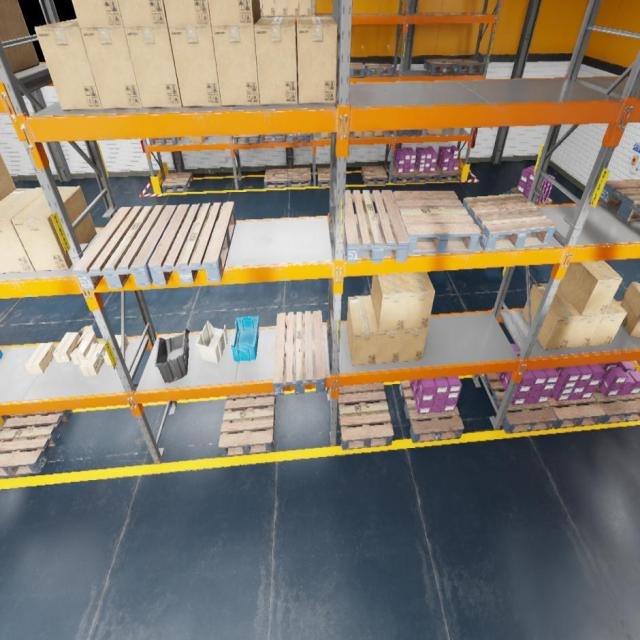box: (12, 186, 96, 271), (34, 19, 104, 110), (80, 27, 143, 109), (124, 27, 182, 108), (168, 26, 221, 107), (254, 16, 298, 105), (522, 283, 580, 350), (212, 26, 259, 106), (0, 188, 43, 272), (558, 261, 622, 316), (297, 17, 337, 104), (0, 0, 39, 73), (558, 287, 604, 348), (371, 273, 409, 332), (346, 295, 378, 365), (372, 298, 404, 363), (402, 272, 435, 330), (588, 298, 627, 346), (71, 0, 124, 28), (208, 0, 260, 26), (118, 0, 168, 27), (163, 0, 211, 27), (620, 282, 640, 338), (70, 326, 98, 364), (25, 342, 56, 374), (399, 328, 428, 362), (80, 343, 106, 376), (53, 332, 80, 362), (0, 152, 16, 200), (104, 335, 128, 365), (262, 0, 275, 16), (274, 0, 287, 16), (299, 0, 311, 16), (287, 0, 299, 16), (190, 136, 208, 144), (426, 128, 442, 134), (353, 131, 365, 137), (259, 0, 263, 16), (365, 131, 374, 137), (374, 131, 384, 136), (321, 133, 330, 138), (349, 131, 352, 137)
pallets: (73, 205, 177, 291), (148, 202, 236, 285), (462, 193, 556, 252), (393, 191, 481, 254), (0, 409, 73, 477), (344, 190, 410, 263), (273, 310, 326, 396), (483, 373, 557, 434), (400, 380, 464, 442), (218, 392, 276, 456), (338, 383, 393, 450), (599, 179, 640, 230), (548, 394, 606, 428), (593, 384, 640, 423), (509, 186, 552, 205), (162, 172, 194, 192), (424, 58, 458, 74), (449, 58, 483, 73), (362, 166, 388, 185), (435, 164, 461, 182), (389, 166, 416, 183), (264, 169, 288, 188), (288, 168, 311, 187), (365, 63, 394, 77), (414, 168, 438, 182), (234, 135, 260, 145), (149, 138, 181, 146), (350, 62, 366, 78), (317, 168, 330, 186), (288, 133, 310, 143), (260, 134, 286, 142), (396, 130, 423, 136)
